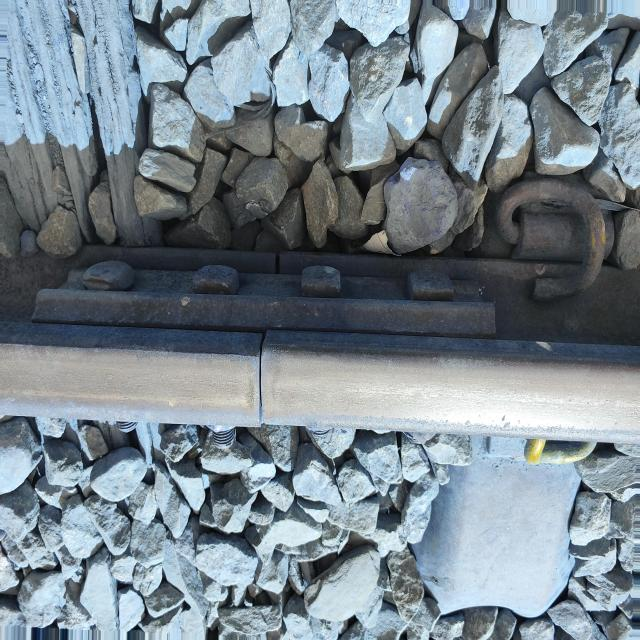Good Fasteners: (487, 164, 628, 315), (525, 439, 596, 465)
Good Joint: (34, 268, 493, 322)
